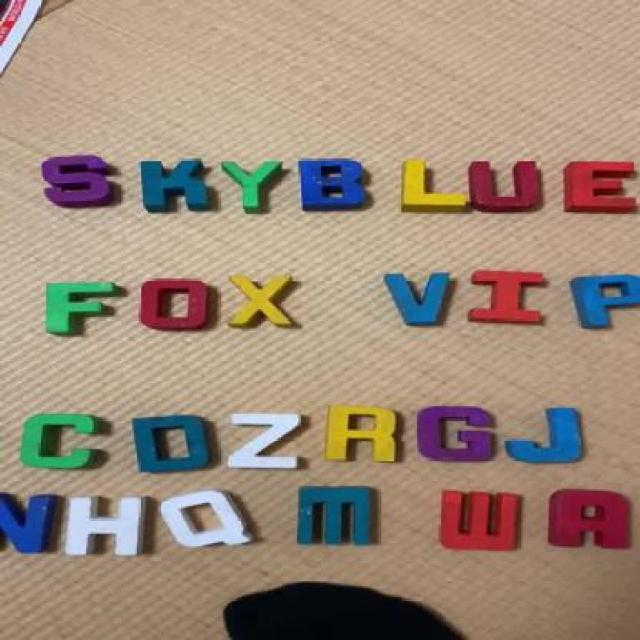A: (547, 490, 631, 547)
B: (298, 158, 371, 212)
C: (22, 416, 106, 472)
D: (132, 416, 210, 472)
E: (562, 162, 638, 216)
F: (45, 282, 118, 333)
G: (417, 404, 500, 464)
H: (65, 498, 142, 556)
I: (468, 268, 552, 328)
J: (514, 407, 584, 462)
K: (137, 160, 211, 209)
L: (399, 158, 470, 210)
M: (298, 485, 376, 541)
O: (142, 280, 209, 328)
P: (575, 273, 639, 332)
Q: (158, 489, 254, 549)
R: (328, 407, 400, 465)
S: (45, 155, 113, 203)
U: (472, 162, 546, 210)
V: (385, 272, 450, 328)
W: (436, 490, 524, 550)
X: (230, 276, 298, 330)
Y: (225, 161, 288, 213)
Z: (227, 413, 304, 472)
